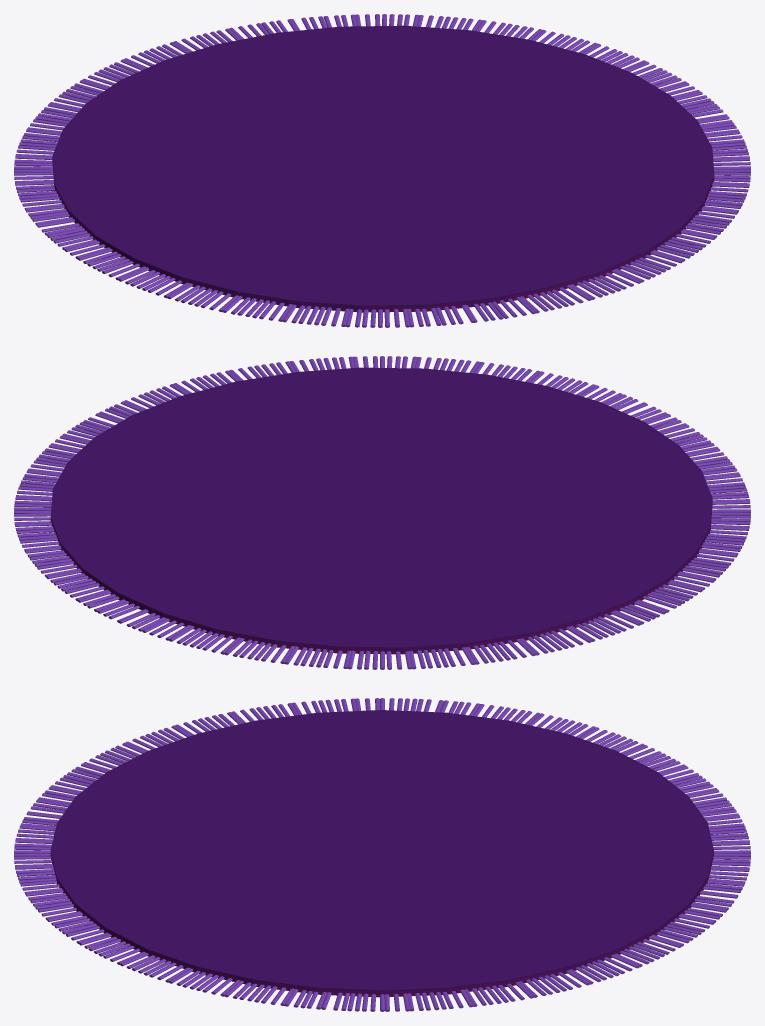
File: Carpet 3.fbx
The picture shows the model from 3 angles, top to bottom: view 1: azimuth 30°, elevation 25°; view 2: azimuth 150°, elevation 25°; view 3: azimuth 270°, elevation 25°; orthographic projection.
Visible parts, largest first — view 1: main.001, Cylinder.078, main; view 2: main.001, Cylinder.078, main; view 3: main.001, Cylinder.078, main.
Part boxes in pixels (x1=…): main.001: x1=52, y1=25, x2=714, y2=310; Cylinder.078: x1=14, y1=14, x2=750, y2=327; main: x1=52, y1=160, x2=714, y2=312; main.001: x1=50, y1=367, x2=712, y2=652; Cylinder.078: x1=14, y1=356, x2=750, y2=669; main: x1=50, y1=503, x2=712, y2=654; main.001: x1=50, y1=710, x2=713, y2=995; Cylinder.078: x1=14, y1=698, x2=750, y2=1011; main: x1=51, y1=853, x2=713, y2=997.
Size of the model in its own units: 500 by 5.26 by 500.
